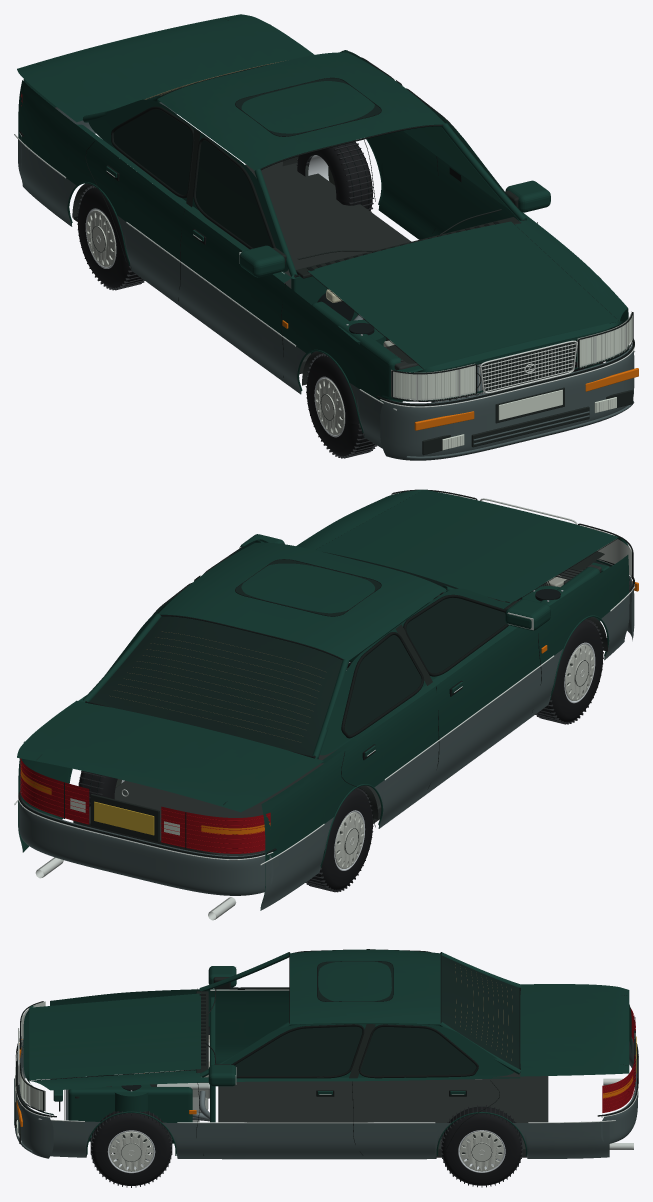
File: lexus-ls-ucf10.glb
3 views of the same model, one above another, from view 1: azimuth 30°, elevation 25°; view 2: azimuth 150°, elevation 25°; view 3: azimuth 270°, elevation 25° (orthographic). The views are drawn at different scales.
Visible parts, largest first — view 1: hood, body-side--1, roof, trunk, lower-cladding--1, front-bumper, body-side-1, floor, front-door-glass--1, rear-door-glass--1, wheel-0--1-tyre, fender-top-1 (+28 smaller); view 2: rear-glass, body-side--1, roof, hood, trunk, lower-cladding--1, rear-bumper, front-door-glass--1, rear-door-glass--1, floor, tail-lamp--1, wheel-0--1-tyre (+18 smaller); view 3: lower-cladding-1, floor, hood, roof, trunk, rear-glass, body-side--1, front-door-glass-1, rear-door-glass-1, wheel-1-1-tyre, wheel-0-1-tyre, inner-fender-1 (+20 smaller).
Boxes of the visible parts, <box> form: hood: <box>308,221,618,368</box>; body-side--1: <box>18,80,388,402</box>; roof: <box>157,52,444,170</box>; trunk: <box>17,14,314,122</box>; lower-cladding--1: <box>18,139,382,448</box>; front-bumper: <box>380,343,634,460</box>; body-side-1: <box>367,129,628,361</box>; floor: <box>73,161,411,374</box>; front-door-glass--1: <box>196,140,272,248</box>; rear-door-glass--1: <box>113,109,192,195</box>; wheel-0--1-tyre: <box>306,355,374,456</box>; fender-top-1: <box>515,220,627,321</box>; rear-glass: <box>89,616,342,757</box>; body-side--1: <box>260,555,628,910</box>; roof: <box>158,542,446,660</box>; hood: <box>315,489,618,603</box>; trunk: <box>17,700,323,812</box>; lower-cladding--1: <box>261,594,629,910</box>; rear-bumper: <box>19,794,273,895</box>; front-door-glass--1: <box>406,597,506,673</box>; rear-door-glass--1: <box>344,635,421,735</box>; floor: <box>73,749,381,855</box>; tail-lamp--1: <box>161,806,270,853</box>; wheel-0--1-tyre: <box>538,621,603,722</box>; lower-cladding-1: <box>50,1120,609,1159</box>; floor: <box>218,1072,548,1157</box>; hood: <box>29,993,200,1080</box>; roof: <box>290,949,440,1024</box>; trunk: <box>520,984,629,1076</box>; rear-glass: <box>441,955,519,1068</box>; body-side--1: <box>50,989,439,1064</box>; front-door-glass-1: <box>234,1026,362,1076</box>; rear-door-glass-1: <box>360,1027,476,1075</box>; wheel-1-1-tyre: <box>441,1107,521,1185</box>; wheel-0-1-tyre: <box>91,1111,171,1185</box>; inner-fender-1: <box>68,1087,192,1134</box>.
Size of the model in its own units: 2.11 by 1.43 by 5.02.
